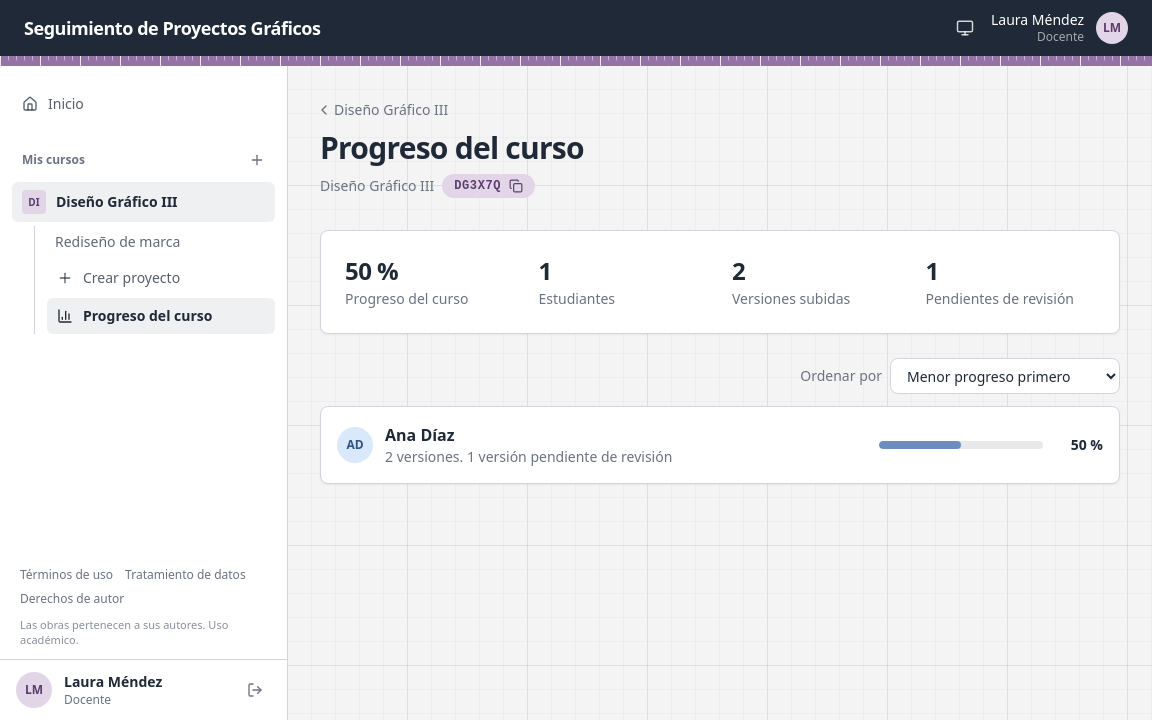
Scenario: Sesión › tras cerrar sesión, el siguiente login empieza en el inicio y no en la página anterior
Expected: the heading "Progreso del curso" is shown, [320,130,584,166]
Click the button named "Cerrar sesión" at (255, 690), box [239,674,271,706]
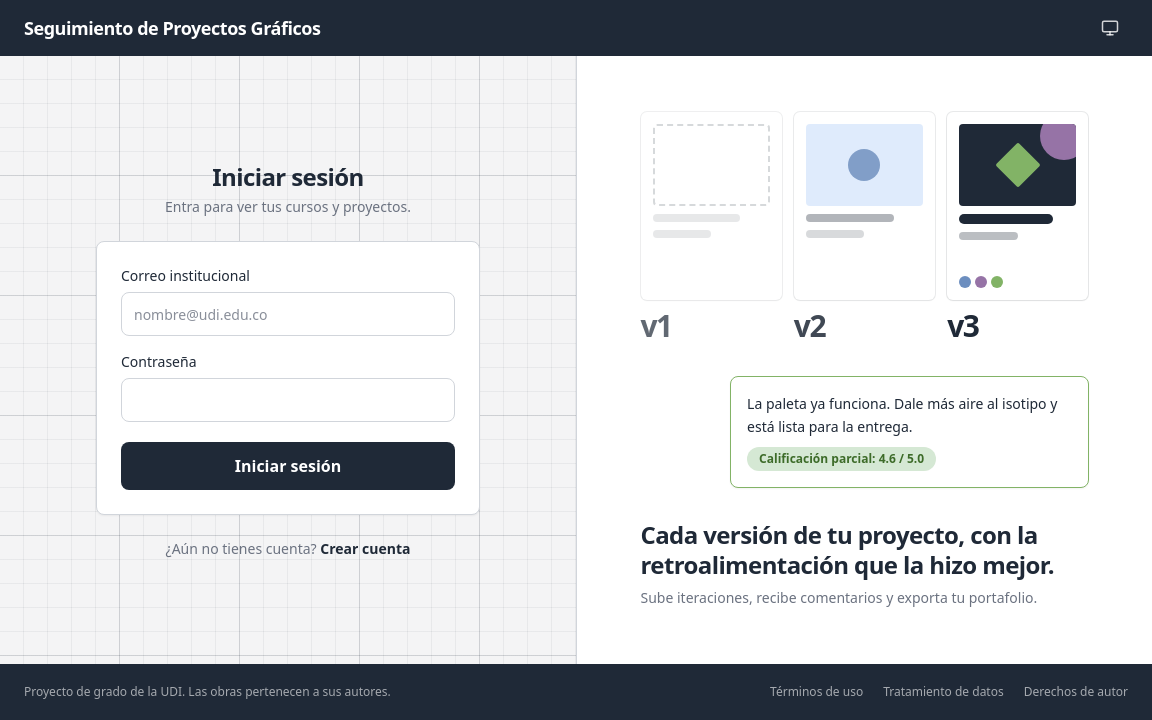
Type "ana@udi.edu.co" into the field labelled "Correo institucional" at (288, 314), box [121,292,455,336]
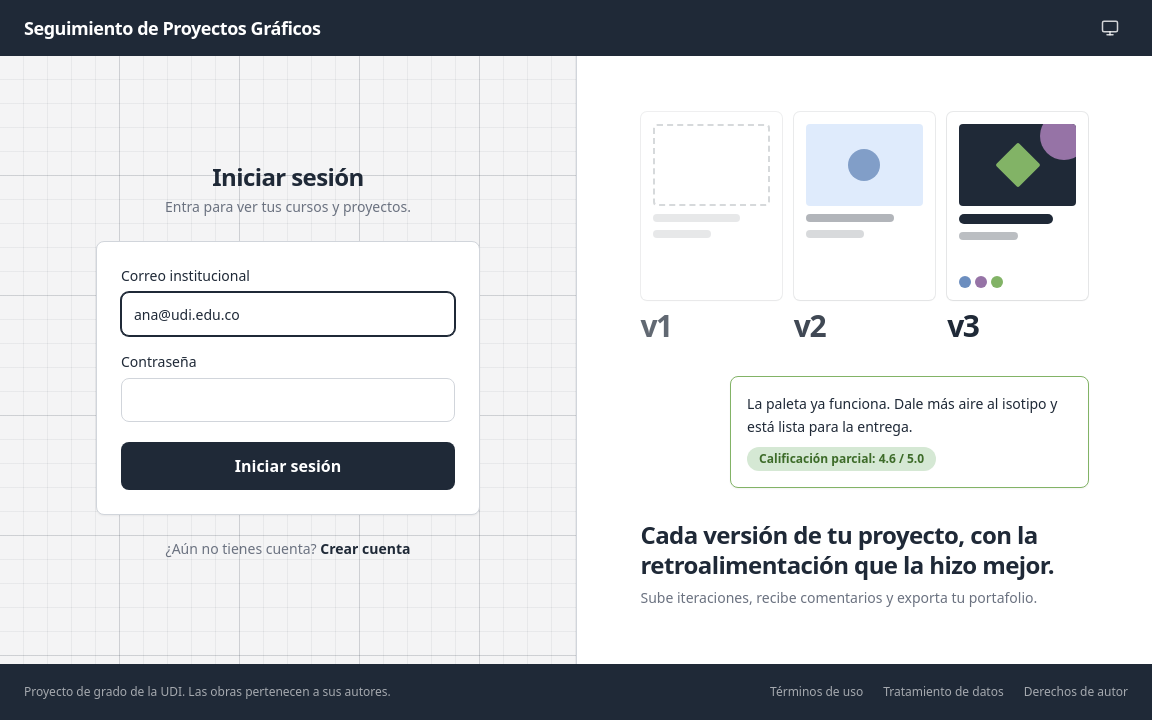
Type "secreta123" into the password field labelled "Contraseña" at (288, 400), box [121,378,455,422]
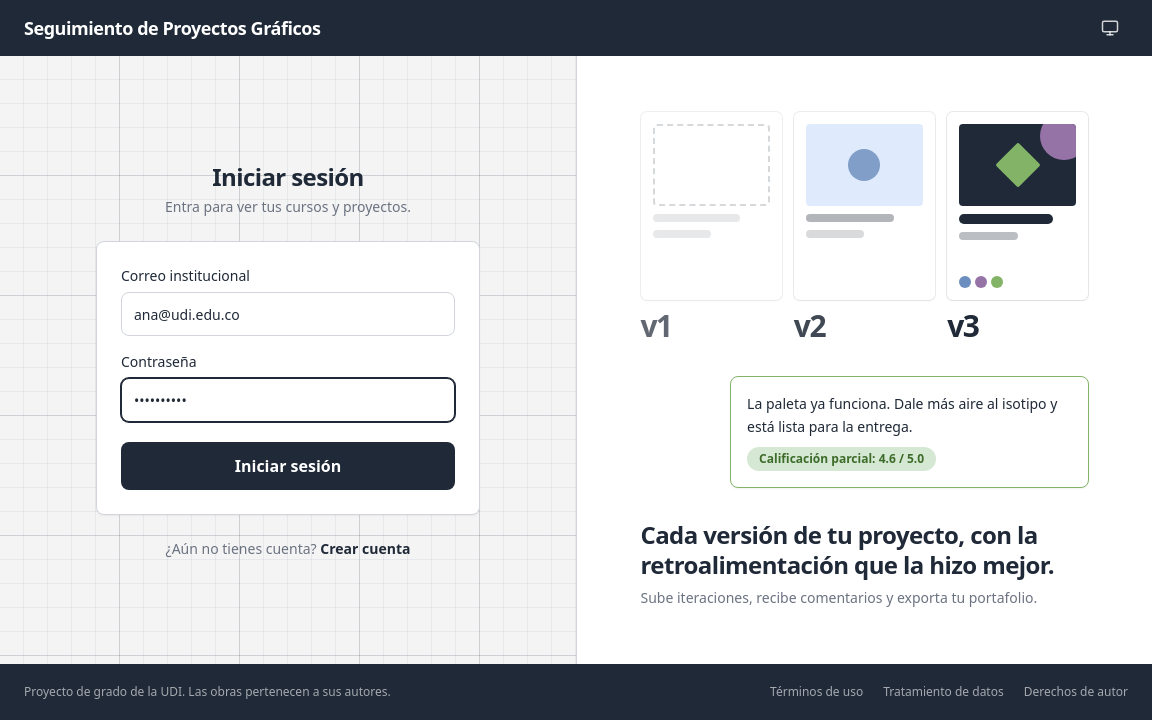
Click the button "Iniciar sesión" at (288, 466), box [121,442,455,490]
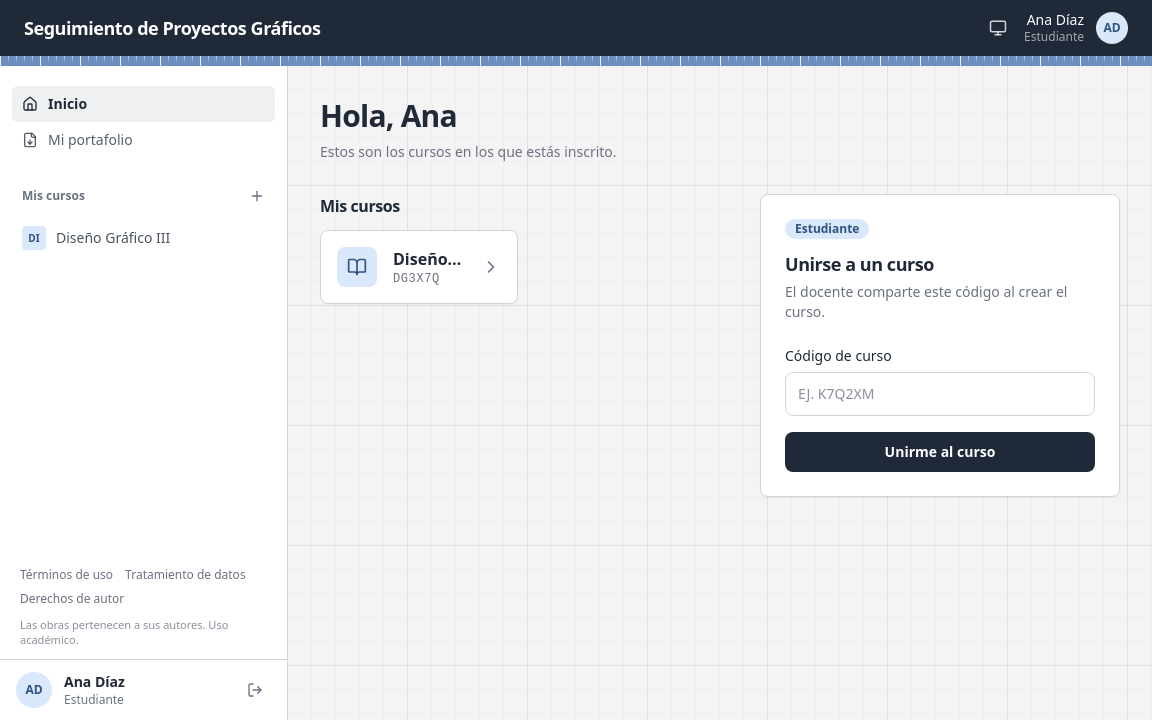
Expected: the link "Progreso del curso" is not shown
Expected: the heading "Hola, Ana" is shown, [320,95,457,136]
